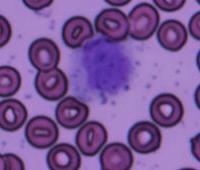M: (70, 34, 138, 97)
